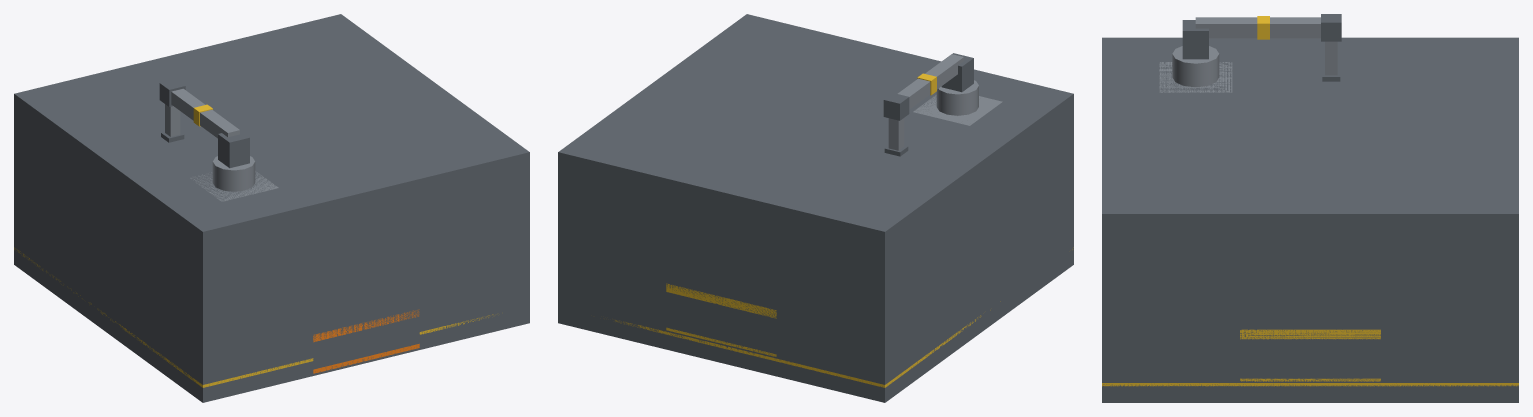
File: assembler.glb
3 views of the same model, side by side, from view 1: azimuth 30°, elevation 25°; view 2: azimuth 150°, elevation 25°; view 3: azimuth 270°, elevation 25° (orthographic). The views are drawn at different scales.
Visible parts, largest first — view 1: col_Assembler, Assembler_LOD0, Assembler_Arm; view 2: col_Assembler, Assembler_LOD0, Assembler_Arm; view 3: col_Assembler, Assembler_LOD0, Assembler_Arm.
Boxes of the visible parts, bbox=[...] form: col_Assembler: bbox=[14, 14, 529, 402]; Assembler_LOD0: bbox=[14, 70, 529, 402]; Assembler_Arm: bbox=[159, 79, 255, 191]; col_Assembler: bbox=[558, 14, 1073, 401]; Assembler_LOD0: bbox=[558, 95, 1073, 402]; Assembler_Arm: bbox=[883, 53, 978, 156]; col_Assembler: bbox=[1102, 37, 1518, 402]; Assembler_LOD0: bbox=[1102, 62, 1518, 402]; Assembler_Arm: bbox=[1172, 14, 1341, 87].
Size of what is drawn, in the model's own units: 8 by 5.25 by 8.
